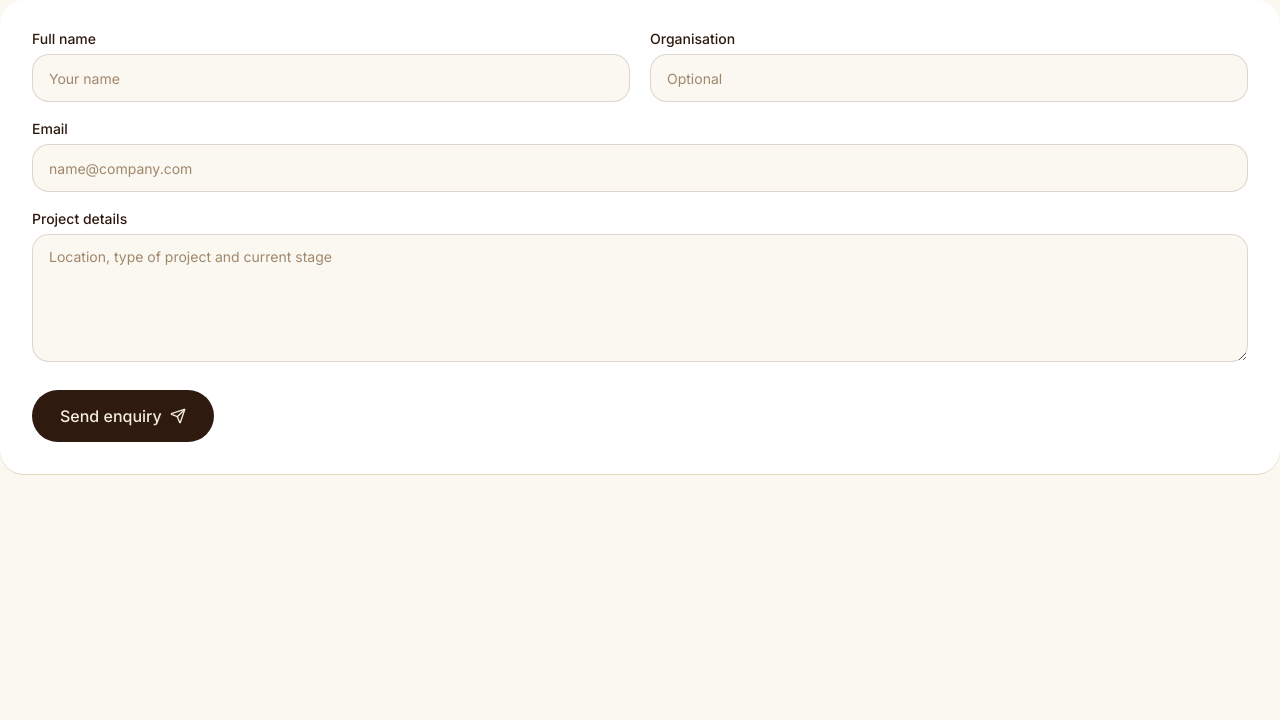
Test case: EnquiryForm › explains every missing required field when submitted empty
The width and height of the screenshot is (1280, 720).
Click the button "Send enquiry" at (123, 416), box [32,390,214,442]
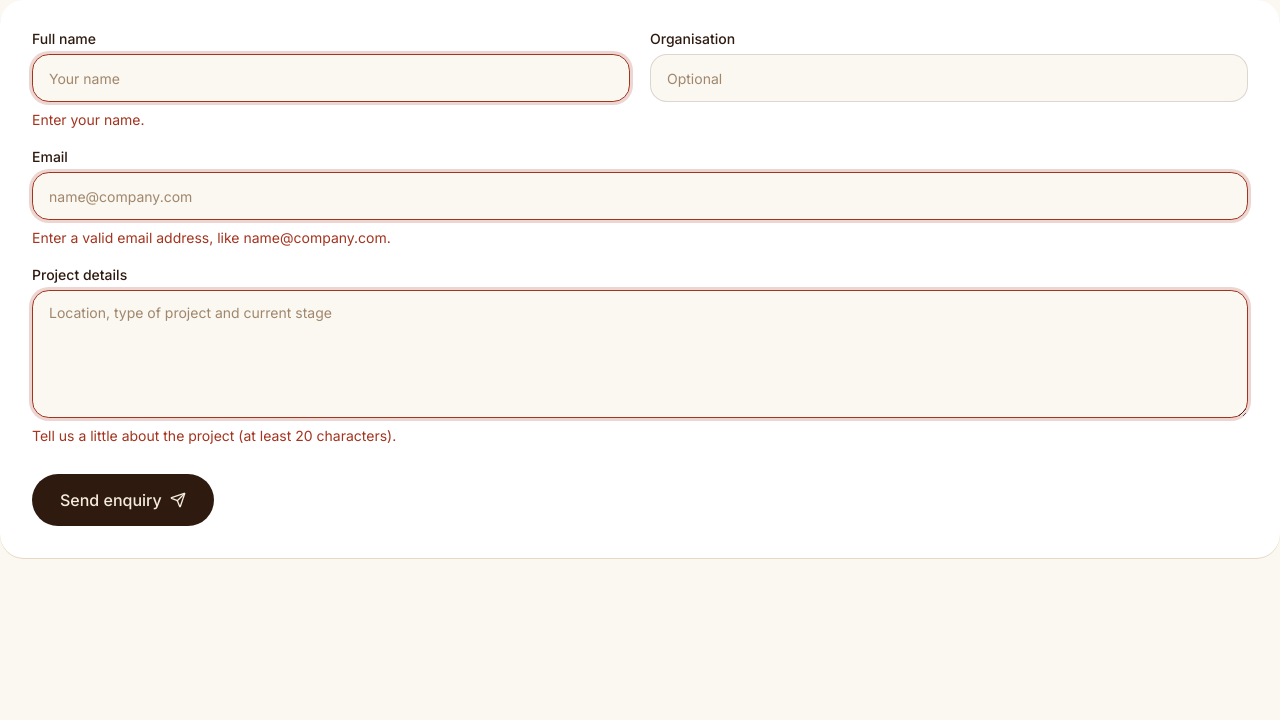
Expected: the text "Enter your name." is shown, [32,111,145,128]
Expected: the text "Enter a valid email address, like name@company.com." is shown, [32,229,391,246]
Expected: the text "Tell us a little about the project (at least 20 characters)." is shown, [32,427,396,444]
